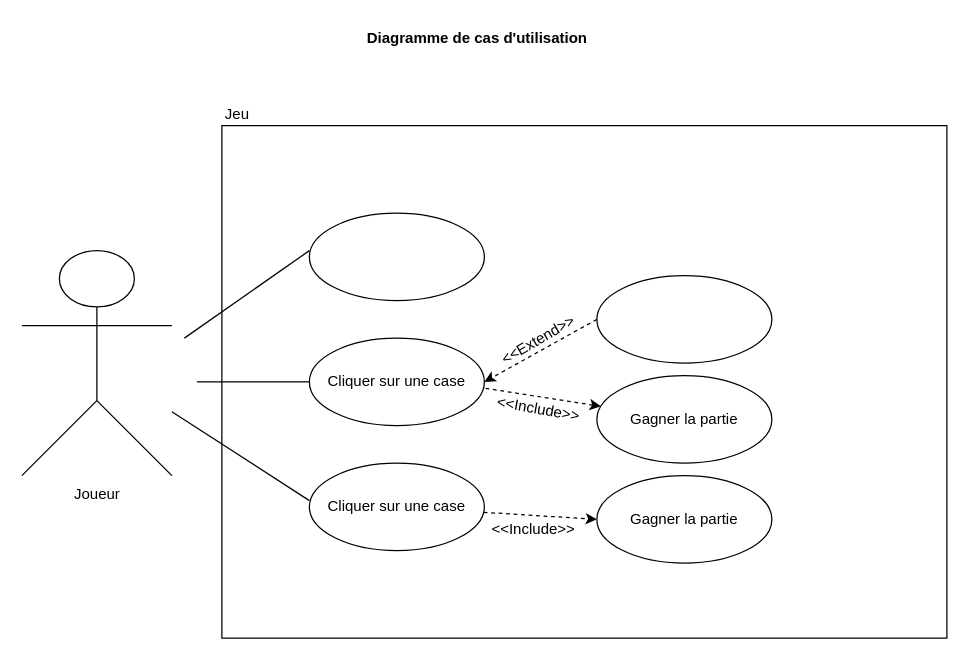
The diagram is 969 pixels wide and 660 high, and some of its shapes have lost their labels. The centre of each missing label's shape, as x and y in pixels:
"Démarrer une nouvelle partie" belongs at (x=396, y=256).
"Perdre la partie" belongs at (x=684, y=318).
